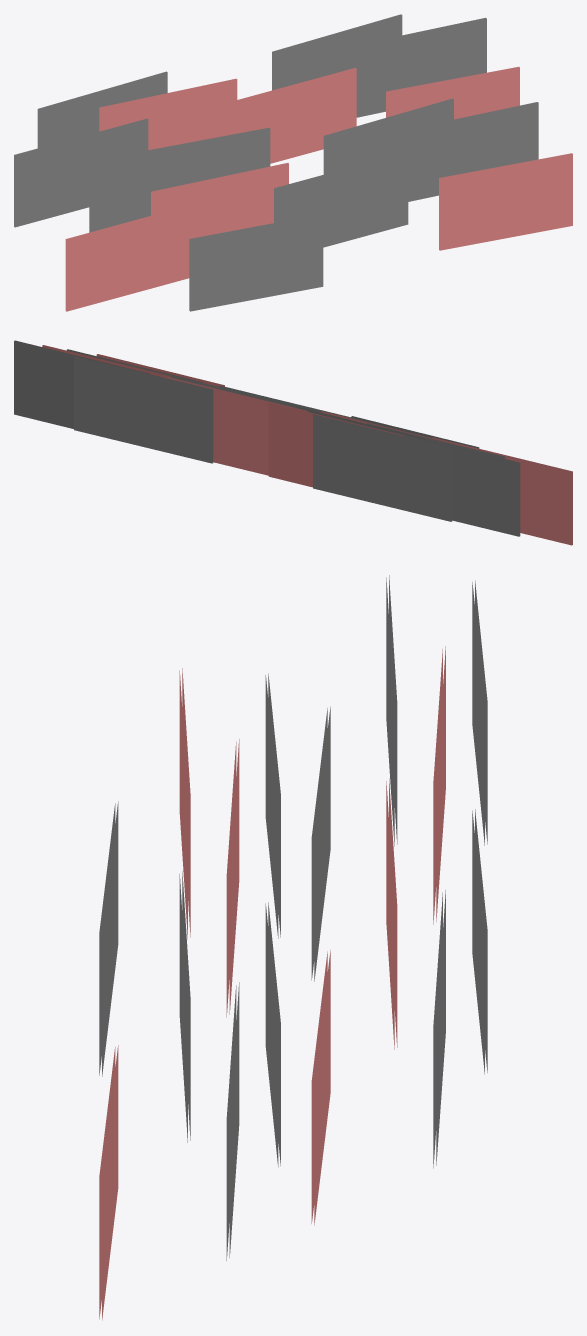
The model's file is Crowd_05.FBX.
3 renders of one model, top to bottom at view 1: azimuth 30°, elevation 25°; view 2: azimuth 150°, elevation 25°; view 3: azimuth 270°, elevation 25°, orthographic. The views are drawn at different scales.
Visible parts, largest first — view 1: crowd005; view 2: crowd005; view 3: crowd005.
Boxes of the visible parts, bbox=[...] form: crowd005: bbox=[14, 14, 572, 311]; crowd005: bbox=[14, 340, 572, 545]; crowd005: bbox=[99, 575, 487, 1320].
Bounding box in the file's own units: 353 × 110 × 122.
